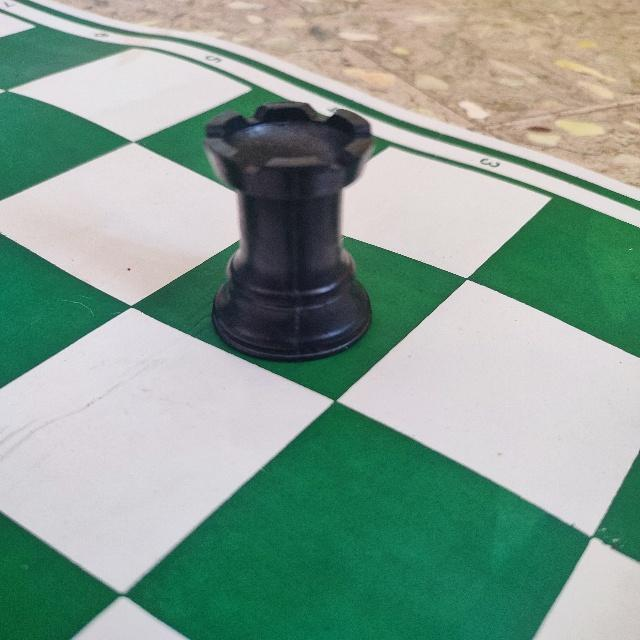Rook: (198, 95, 380, 361)
